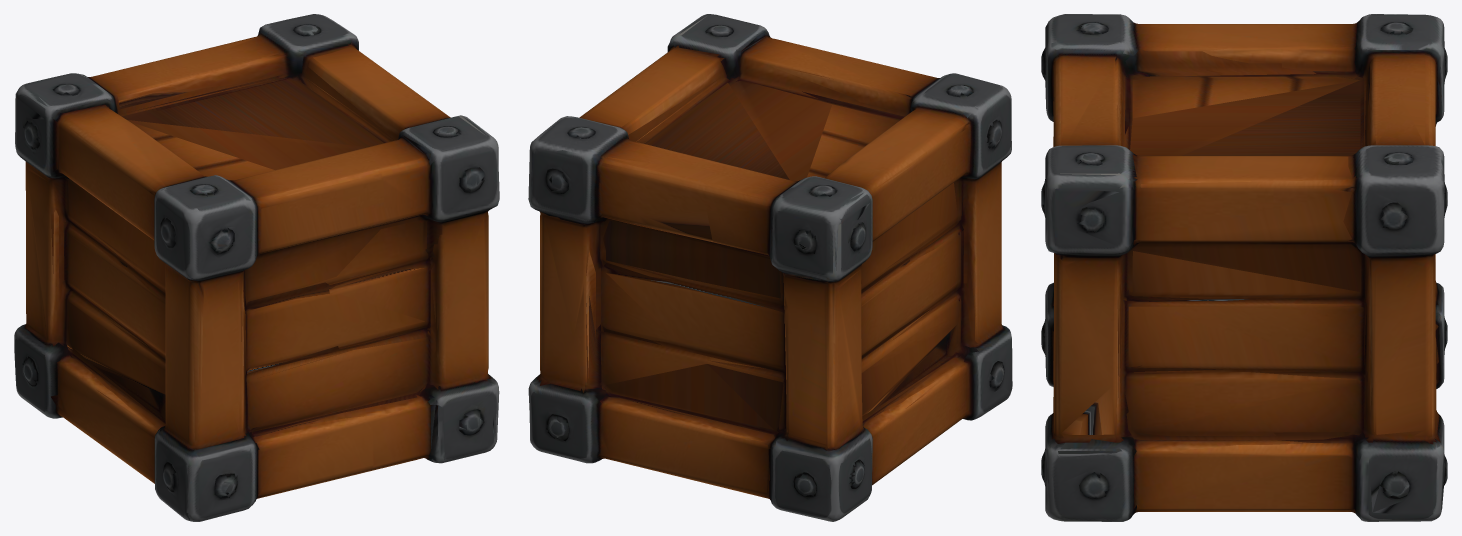
File: selected_sliceable.glb
3 renders of one model, left to right at view 1: azimuth 30°, elevation 25°; view 2: azimuth 150°, elevation 25°; view 3: azimuth 270°, elevation 25°, orthographic. The views are drawn at different scales.
Parts seen in each view (by area): view 1: WORK_Crate; view 2: WORK_Crate; view 3: WORK_Crate.
Boxes of the visible parts, bbox=[...] form: WORK_Crate: bbox=[14, 14, 499, 521]; WORK_Crate: bbox=[528, 14, 1012, 521]; WORK_Crate: bbox=[1041, 14, 1447, 521].
Size of the model in its own units: 0.9981 by 0.955 by 0.9981.
Materials: 1 (1 with a texture image).
